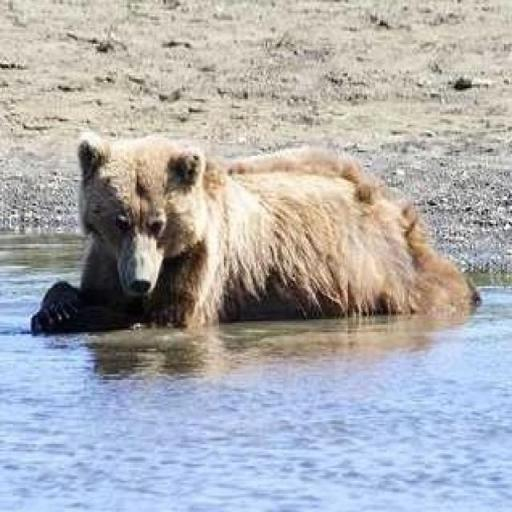Bear: (30, 129, 482, 334)
